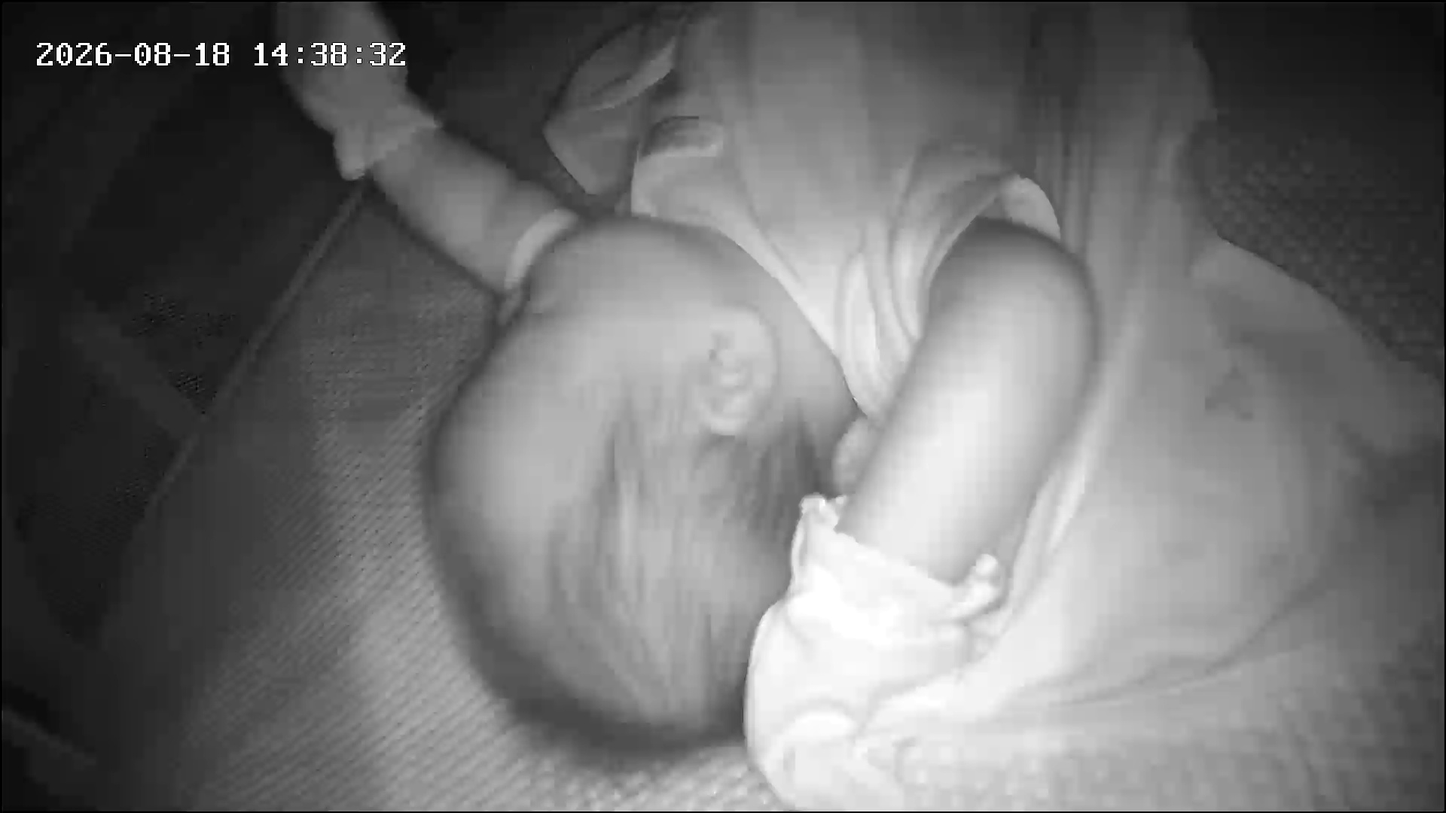baby: (47, 3, 960, 801)
baby_face: (414, 213, 836, 779)
